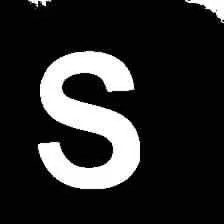LTR_S: (33, 43, 143, 190)
